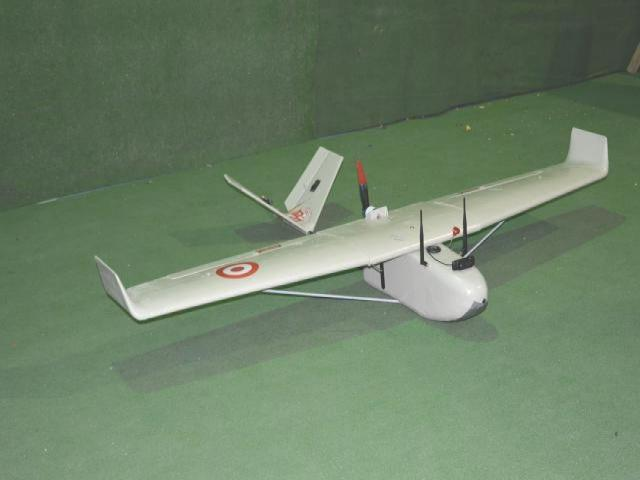iha: (92, 123, 613, 328)
